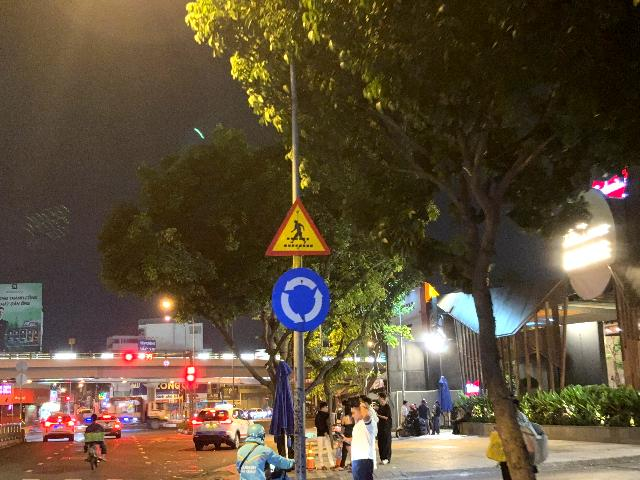duong-nguoi-di-bo-cat-ngang: (265, 199, 331, 256)
noi-giao-nhau-chay-theo-vong-xuyen: (271, 268, 330, 332)
